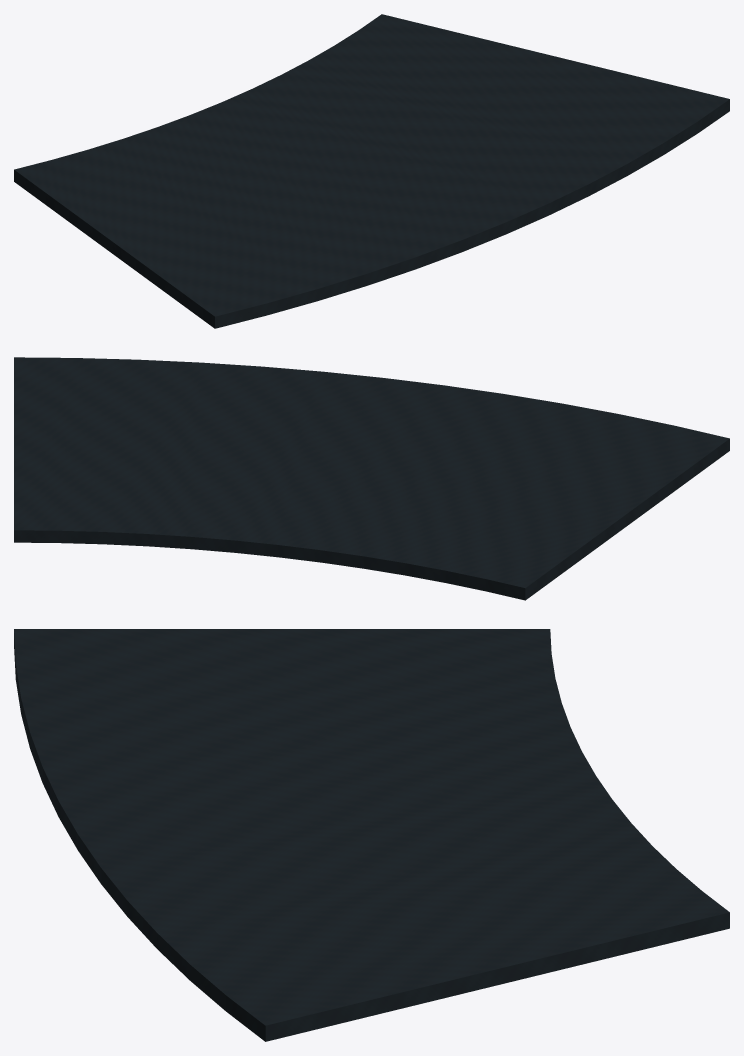
3 views of the same model, one above another, from view 1: azimuth 30°, elevation 25°; view 2: azimuth 150°, elevation 25°; view 3: azimuth 270°, elevation 25° (orthographic). The views are drawn at different scales.
Visible parts, largest first — view 1: RoadPlan_Curve_2L_A30_R18_Surface; view 2: RoadPlan_Curve_2L_A30_R18_Surface; view 3: RoadPlan_Curve_2L_A30_R18_Surface.
Boxes of the visible parts, x1=… form: RoadPlan_Curve_2L_A30_R18_Surface: x1=14, y1=14, x2=729, y2=328; RoadPlan_Curve_2L_A30_R18_Surface: x1=14, y1=357, x2=729, y2=600; RoadPlan_Curve_2L_A30_R18_Surface: x1=14, y1=629, x2=729, y2=1041.
Size of the model in its own units: 10.5 by 0.2 by 8.01.
1 material, 1 textured.
